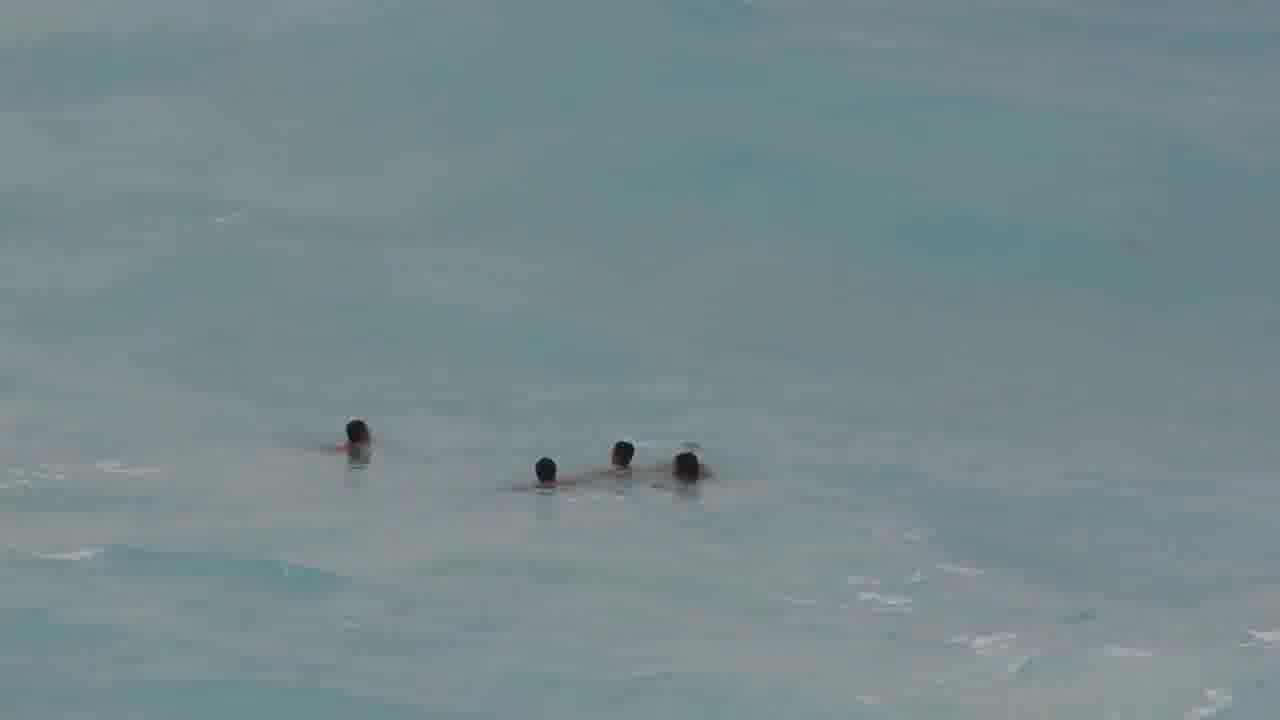swimmer: (305, 405, 382, 453), (500, 447, 589, 486), (651, 449, 724, 487), (589, 437, 646, 476)
